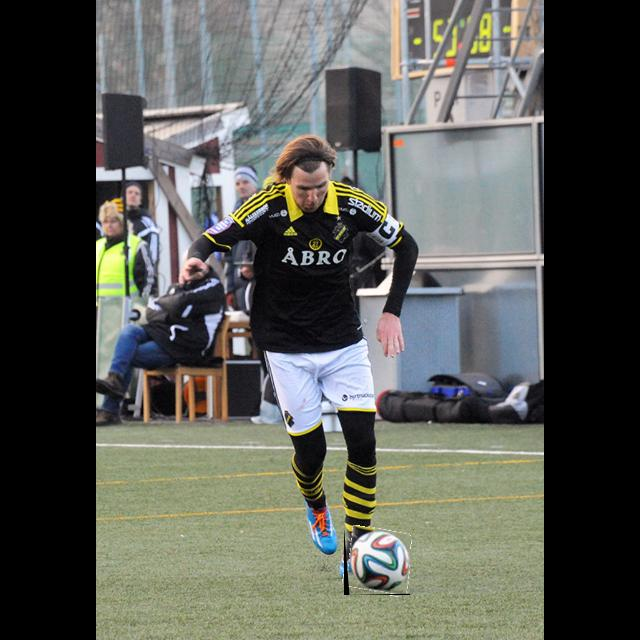Football: (344, 527, 410, 595)
